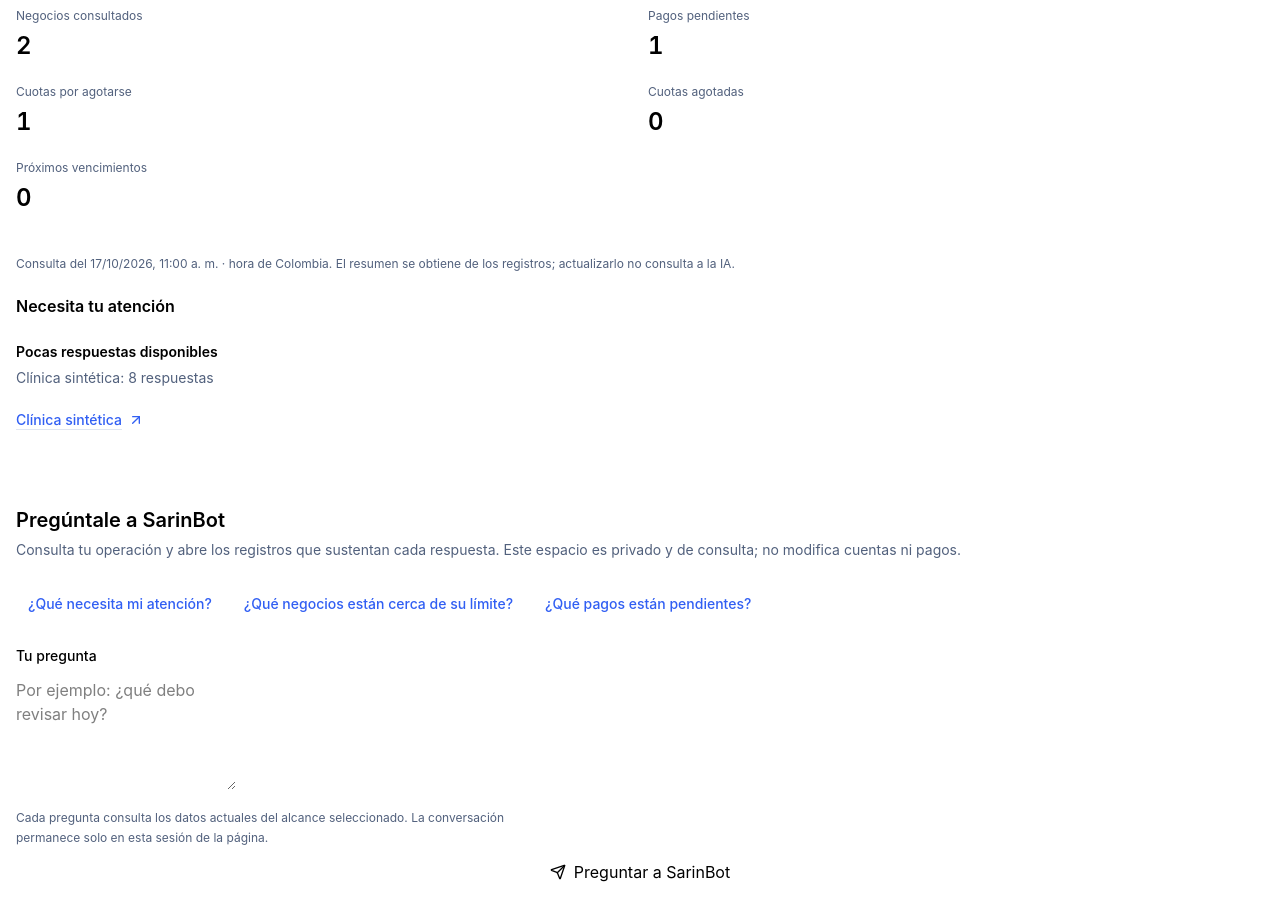
private administrative copilot › keeps an unsent question after failure and exposes a retryable error
(page scrolled)
Step 1. Type "¿Qué pagos faltan?" into the text box labelled "Tu pregunta" → (126, 734), box 16,678 -> 236,790
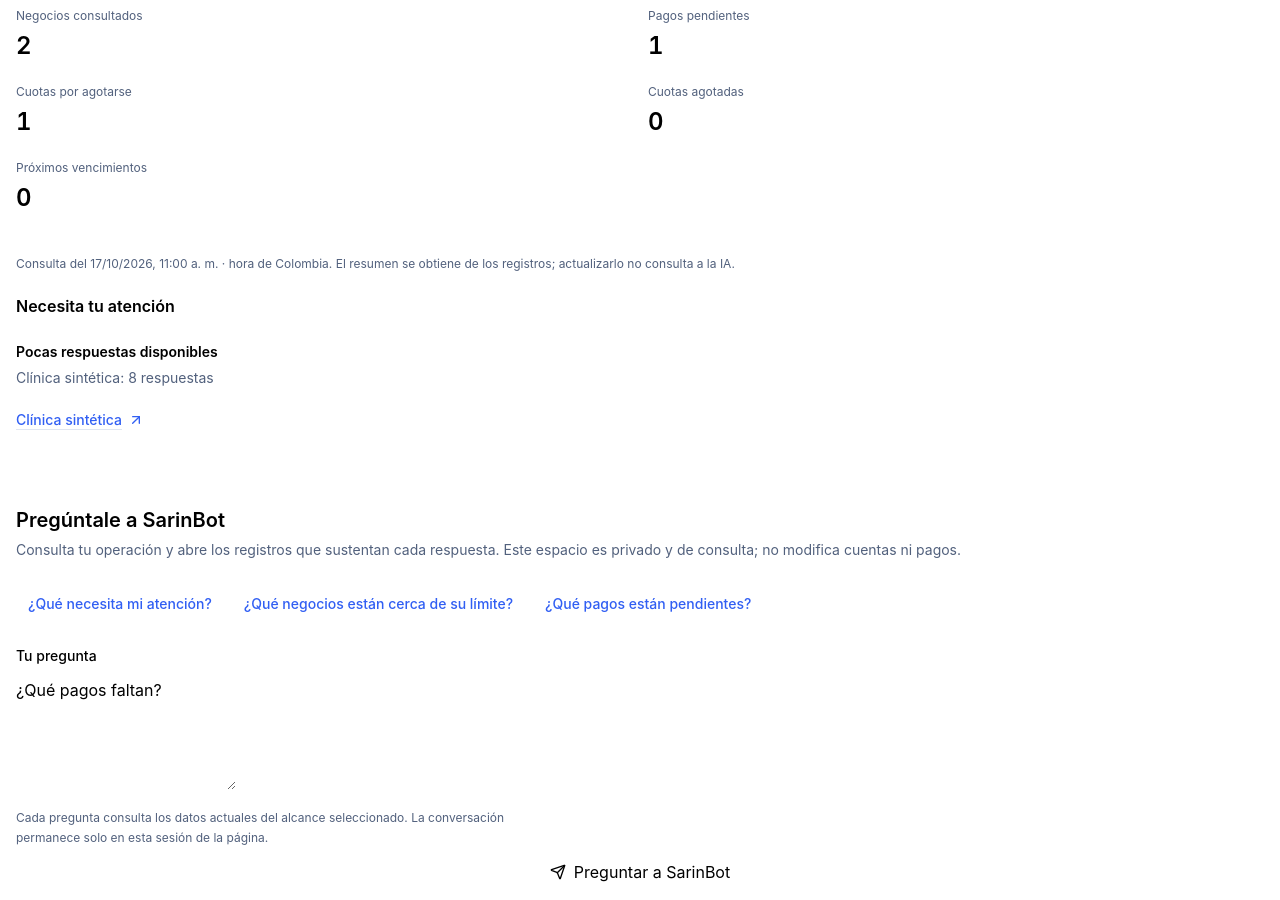
Step 2. Submit the form, box 16,646 -> 1264,884
(page scrolled)
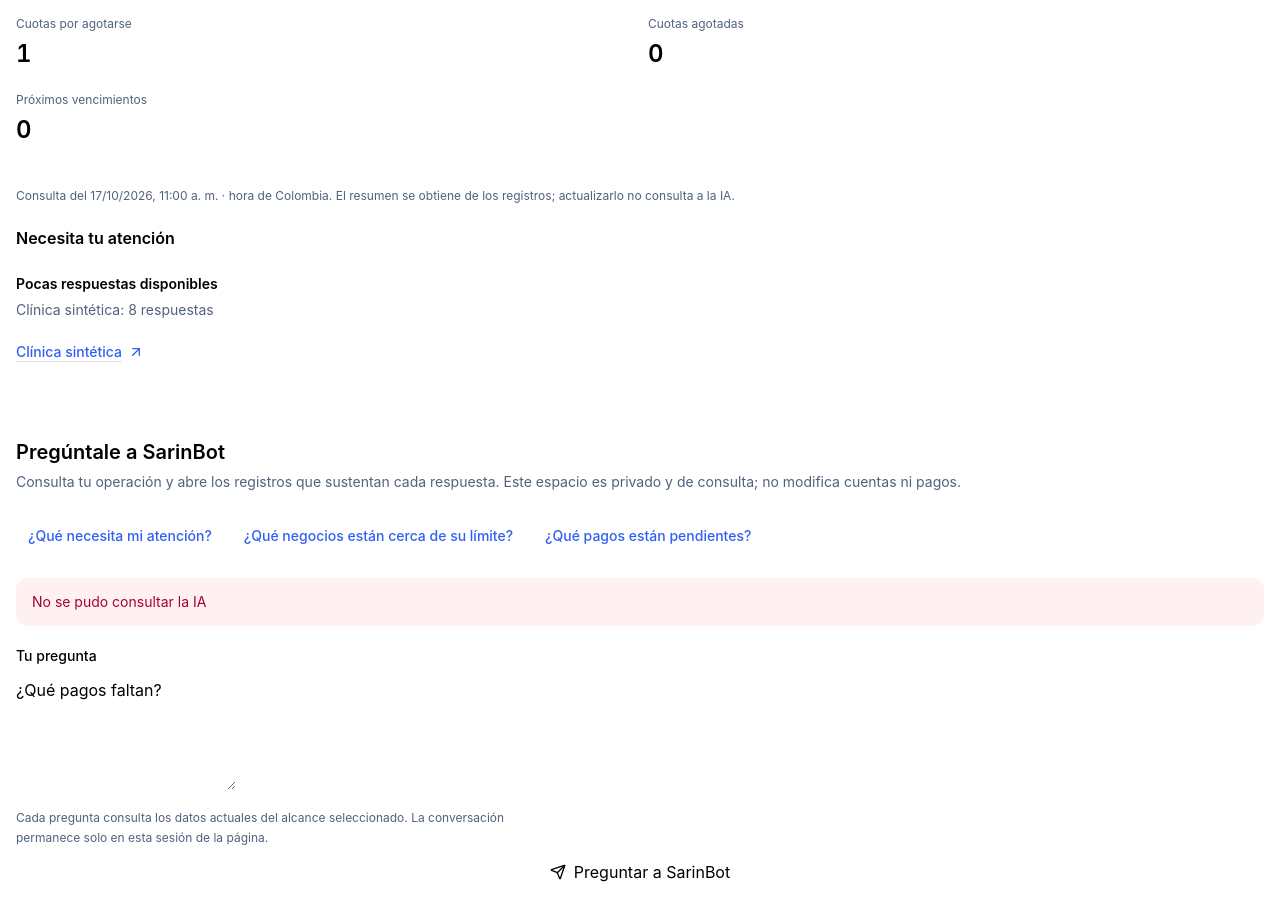
expect the button "Preguntar a SarinBot" is enabled: met, box 16,860 -> 1264,884
expect the message "No se pudo consultar la IA" is shown: met, box 16,578 -> 1264,626
